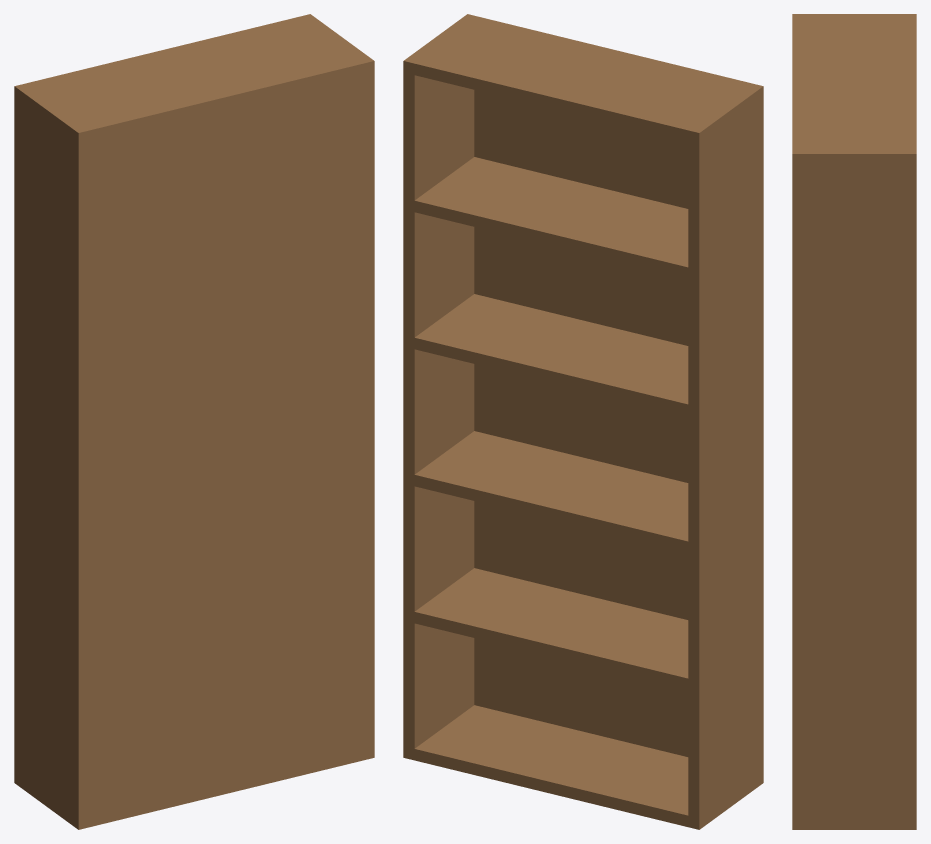
3 views of the same model, side by side, from view 1: azimuth 30°, elevation 25°; view 2: azimuth 150°, elevation 25°; view 3: azimuth 270°, elevation 25° (orthographic). The views are drawn at different scales.
Visible parts, largest first — view 1: back, side-0, shelf-5, side-1, shelf-2, shelf-4, shelf-3, shelf-1, shelf-0; view 2: back, side-0, side-1, shelf-5, shelf-1, shelf-4, shelf-0, shelf-2, shelf-3; view 3: side-1, shelf-5, back, side-0.
Part boxes in pixels (left/top/right/bottom): back: left=74, top=58, right=374, bottom=829; side-0: left=14, top=83, right=89, bottom=829; shelf-5: left=26, top=16, right=362, bottom=141; side-1: left=300, top=14, right=374, bottom=757; shelf-2: left=89, top=477, right=362, bottom=552; shelf-4: left=89, top=202, right=363, bottom=278; shelf-3: left=89, top=339, right=362, bottom=415; shelf-1: left=95, top=612, right=363, bottom=677; shelf-0: left=89, top=750, right=362, bottom=826; back: left=463, top=14, right=763, bottom=784; side-0: left=688, top=83, right=763, bottom=829; side-1: left=403, top=14, right=476, bottom=760; shelf-5: left=414, top=17, right=751, bottom=141; shelf-1: left=414, top=568, right=688, bottom=689; shelf-4: left=414, top=157, right=688, bottom=278; shelf-0: left=414, top=705, right=688, bottom=826; shelf-2: left=414, top=431, right=688, bottom=552; shelf-3: left=414, top=294, right=688, bottom=415; side-1: left=792, top=148, right=916, bottom=829; shelf-5: left=792, top=19, right=916, bottom=148; back: left=792, top=14, right=800, bottom=829; side-0: left=792, top=14, right=916, bottom=19.
Bounding box in the file's own units: 0.8 × 1.8 × 0.3.
